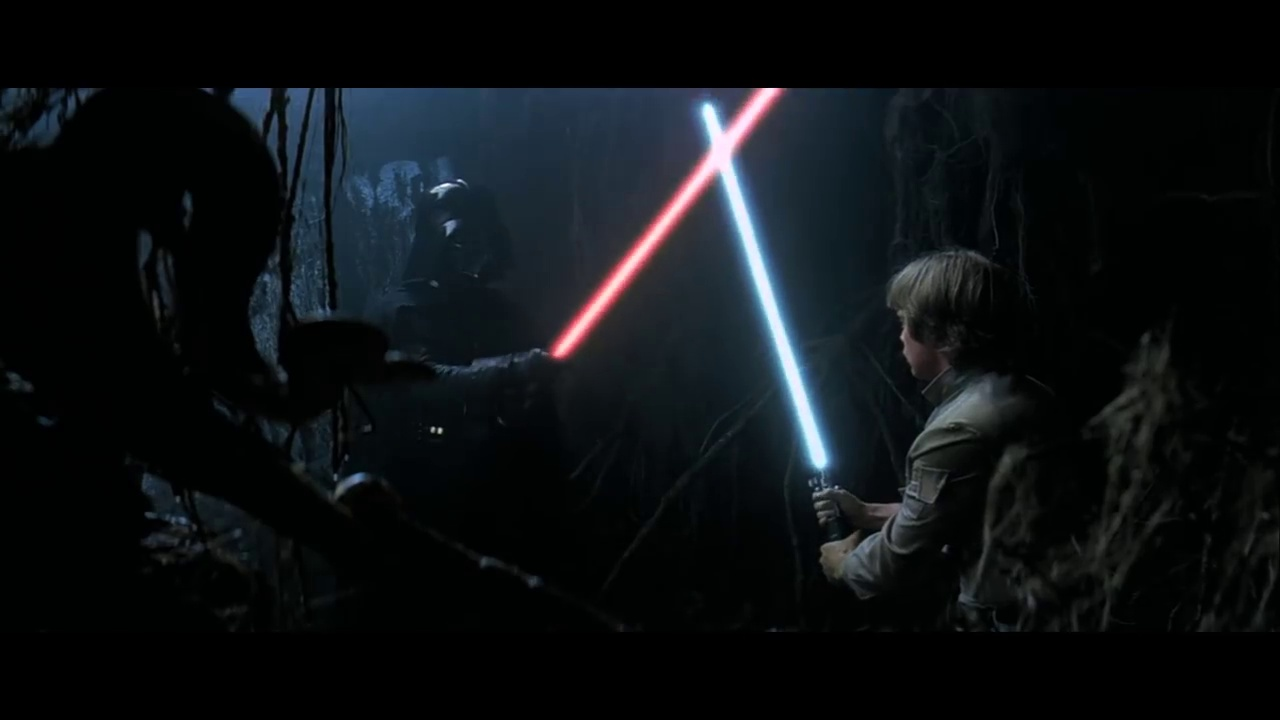lightsaber: (529, 84, 784, 399), (693, 97, 854, 552)
